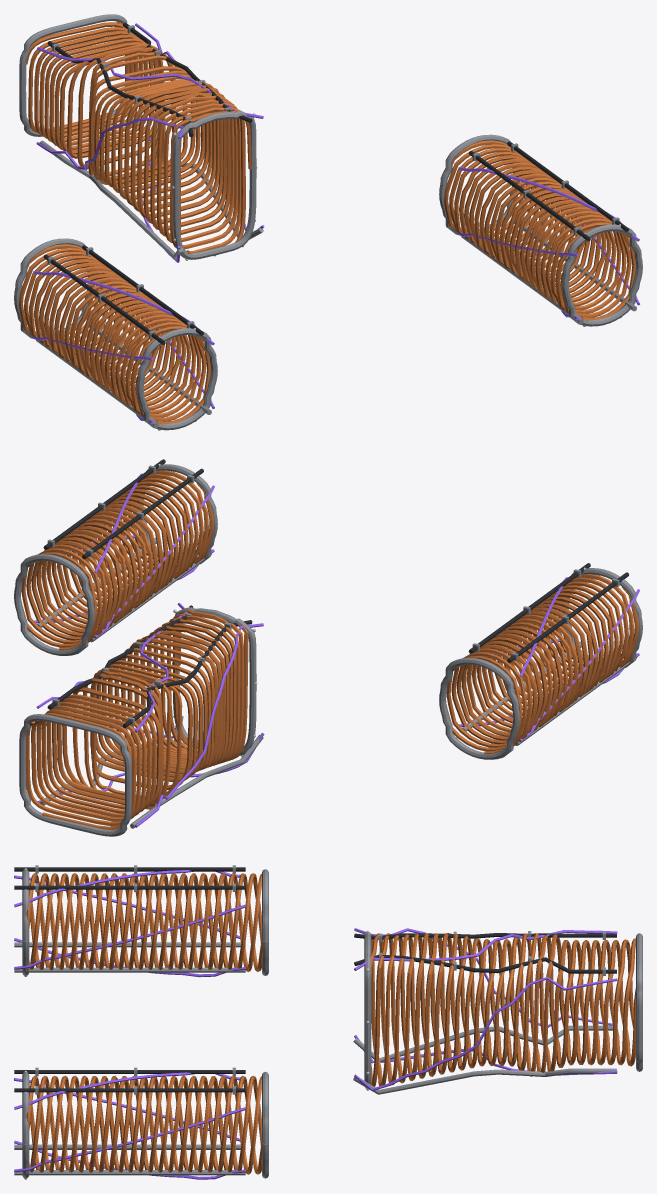
The model's file is nomad_engine_lg.fbx.
The picture shows the model from 3 angles, top to bottom: view 1: azimuth 30°, elevation 25°; view 2: azimuth 150°, elevation 25°; view 3: azimuth 270°, elevation 25°; orthographic projection. The views are drawn at different scales.
Parts seen in each view (by area): view 1: Engine_Legendary; view 2: Engine_Legendary; view 3: Engine_Legendary.
Boxes of the visible parts, <box> form: Engine_Legendary: <box>14,14,642,430</box>; Engine_Legendary: <box>14,459,642,836</box>; Engine_Legendary: <box>14,865,642,1179</box>.
Size of the model in its own units: 243 by 65.29 by 268.
